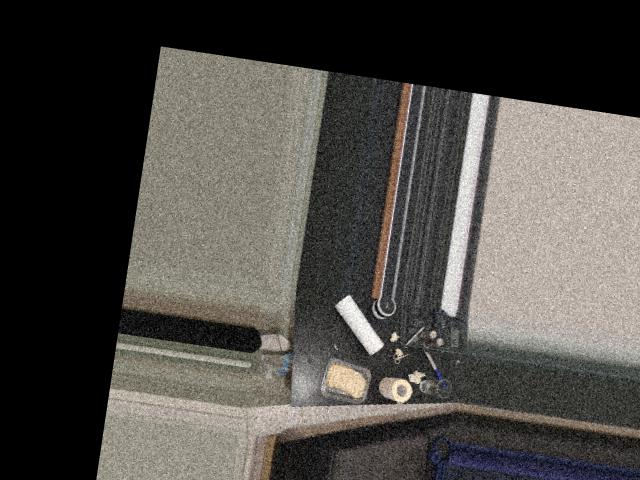cheese: (313, 354, 374, 407)
